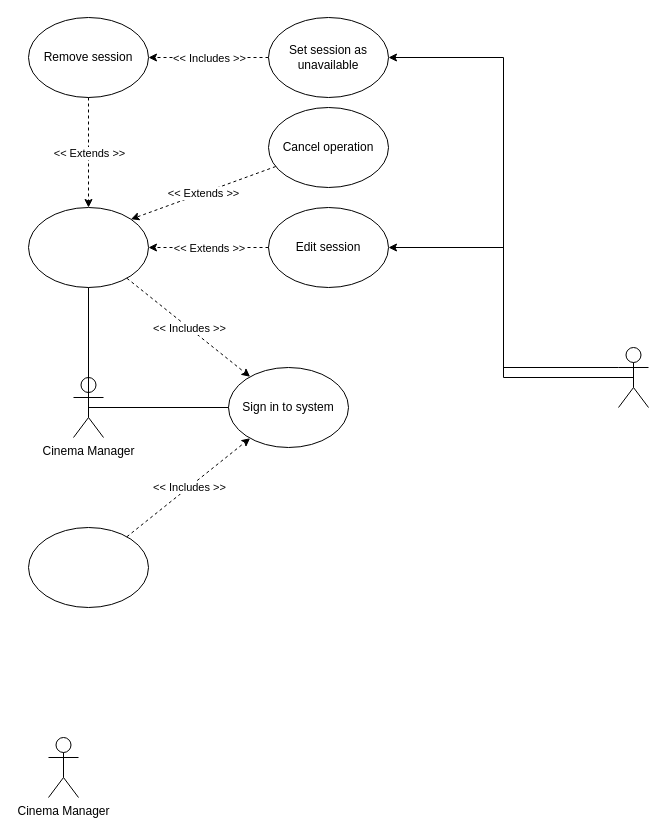
The diagram is 670 pixels wide and 836 high, and some of its shapes have lost their labels. Each missing label, with the centre of its shape:
"Display all available sessions" belongs at point 88,567.
"Select available session" belongs at point 88,247.
"System" belongs at point 633,377.
